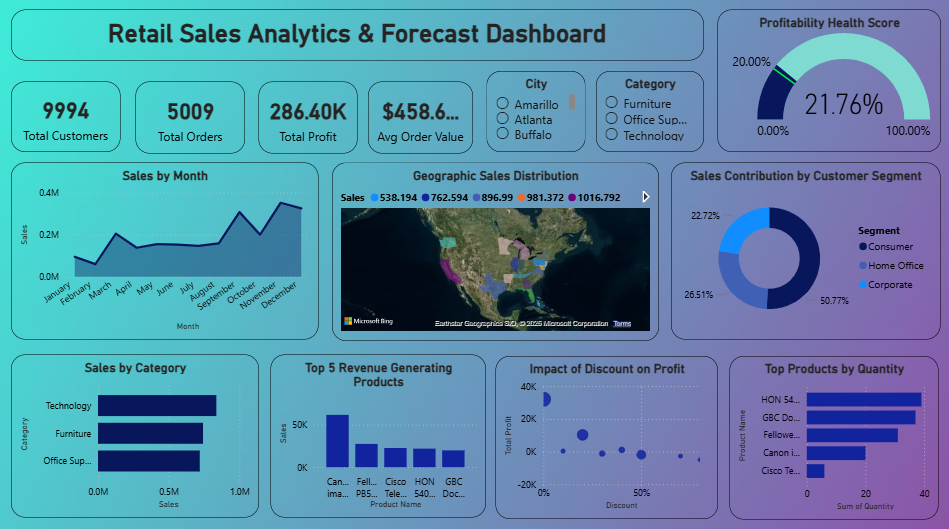

What the dashboard file says about the page in this screenshot:
{"tool":"powerbi","page":{"name":"Page 1","canvas":[1280,720],"ordinal":0},"visuals":[{"type":"lineChart","fields":{"Category":["Sample - Superstore.Order Date.Variation.Date Hierarchy.Month"],"Y":["Sum(Sample - Superstore.Sales)"]},"box":[24.6,223,410.1,236.2],"z":0},{"type":"barChart","fields":{"Y":["Sum(Sample - Superstore.Sales)"],"Category":["Sample - Superstore.Category"]},"box":[24.6,478.1,330.7,217.3],"z":1},{"type":"columnChart","title":"Top 5 Revenue Generating Products","fields":{"Category":["Sample - Superstore.Product Name"],"Y":["Sum(Sample - Superstore.Sales)"]},"box":[370.4,478.1,287.2,217.3],"z":2},{"type":"donutChart","title":"Sales Contribution by Customer Segment","fields":{"Category":["Sample - Superstore.Segment"],"Y":["Sum(Sample - Superstore.Sales)"]},"box":[903.3,223,359.1,236.2],"z":3},{"type":"scatterChart","title":"Impact of Discount on Profit","fields":{"X":["Sample - Superstore.Discount"],"Y":["Sum(Sample - Superstore.Profit)"],"Size":["Sum(Sample - Superstore.Sales)"]},"box":[670.9,480,296.7,217.3],"z":4},{"type":"filledMap","title":"Geographic Sales Distribution","fields":{"Series":["Sample - Superstore.Sales"],"Category":["Sample - Superstore.State"]},"box":[452,222,436,238],"z":5},{"type":"barChart","title":"Top Products by Quantity","fields":{"Y":["Sum(Sample - Superstore.Quantity)"],"Category":["Sample - Superstore.Product Name"]},"box":[982.2,480,278.8,217.8],"z":6},{"type":"gauge","title":"Profitability Health Score","fields":{"Y":["Sample - Superstore.Profit Margin"],"TargetValue":["Sample - Superstore.Target"]},"box":[966,18,298,190],"z":7},{"type":"listSlicer","title":"Category","fields":{"Values":["Sample - Superstore.Category"]},"box":[804,100,144,108],"z":8},{"type":"listSlicer","title":"City","fields":{"Values":["Sample - Superstore.City"]},"box":[658,100,132,108],"z":9},{"type":"card","fields":{"Values":["CountNonNull(Sample - Superstore.Customer ID)"]},"box":[24,114,146,94],"z":10},{"type":"card","fields":{"Values":["Count(Sample - Superstore.Order ID)"]},"box":[190,114,146,96],"z":11},{"type":"card","fields":{"Values":["Sum(Sample - Superstore.Profit)"]},"box":[354,114,132,96],"z":12},{"type":"card","fields":{"Values":["Sample - Superstore.AOV"]},"box":[500,114,140,96],"z":13},{"type":"textbox","box":[24,18,924,68],"z":14}]}

Visuals, with their boxes in screenshot pixels (x1, y1, x2, y2), scaled from the page's 1280x720 canvas onto the 949x529 screenshot:
lineChart - Sample - Superstore.Order Date.Variation.Date Hierarchy.Month x Sum(Sample - Superstore.Sales): rect(18, 164, 322, 337)
barChart - Sum(Sample - Superstore.Sales) x Sample - Superstore.Category: rect(18, 351, 263, 511)
"Top 5 Revenue Generating Products" columnChart: rect(275, 351, 488, 511)
"Sales Contribution by Customer Segment" donutChart: rect(670, 164, 936, 337)
"Impact of Discount on Profit" scatterChart: rect(497, 353, 717, 512)
"Geographic Sales Distribution" filledMap: rect(335, 163, 658, 338)
"Top Products by Quantity" barChart: rect(728, 353, 935, 513)
"Profitability Health Score" gauge: rect(716, 13, 937, 153)
"Category" listSlicer: rect(596, 73, 703, 153)
"City" listSlicer: rect(488, 73, 586, 153)
card - CountNonNull(Sample - Superstore.Customer ID): rect(18, 84, 126, 153)
card - Count(Sample - Superstore.Order ID): rect(141, 84, 249, 154)
card - Sum(Sample - Superstore.Profit): rect(262, 84, 360, 154)
card - Sample - Superstore.AOV: rect(371, 84, 474, 154)
textbox: rect(18, 13, 703, 63)
